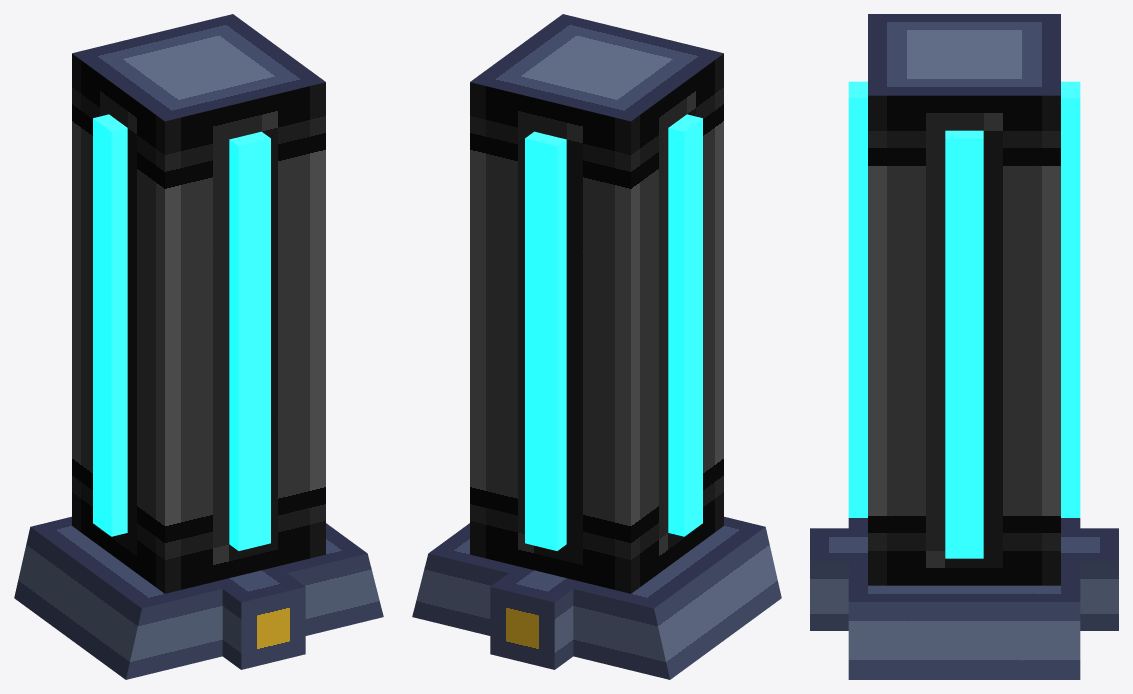
The model's file is Pillar.glb.
3 views of the same model, side by side, from view 1: azimuth 30°, elevation 25°; view 2: azimuth 150°, elevation 25°; view 3: azimuth 270°, elevation 25° (orthographic). The views are drawn at different scales.
Visible parts, largest first — view 1: Main, Bottom, LightBar2, LightBar; view 2: Main, Bottom, LightBar2, LightBar; view 3: Main, Bottom, LightBar2, LightBar.
Boxes of the visible parts, x1=… form: Main: x1=72, y1=14, x2=325, y2=593; Bottom: x1=14, y1=516, x2=383, y2=679; LightBar2: x1=229, y1=131, x2=270, y2=550; LightBar: x1=93, y1=114, x2=127, y2=536; Main: x1=470, y1=14, x2=723, y2=593; Bottom: x1=412, y1=516, x2=781, y2=679; LightBar2: x1=525, y1=131, x2=566, y2=550; LightBar: x1=668, y1=114, x2=702, y2=536; Main: x1=868, y1=14, x2=1060, y2=585; Bottom: x1=810, y1=518, x2=1118, y2=679; LightBar2: x1=848, y1=81, x2=1080, y2=517; LightBar: x1=945, y1=130, x2=983, y2=558.
Bounding box in the file's own units: 1 × 2 × 1.
2 materials, 1 textured.
